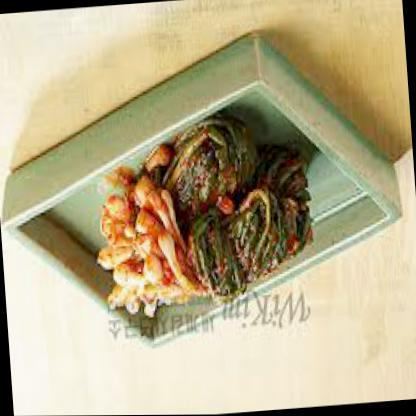green onion Kimchi: (92, 113, 316, 316)
